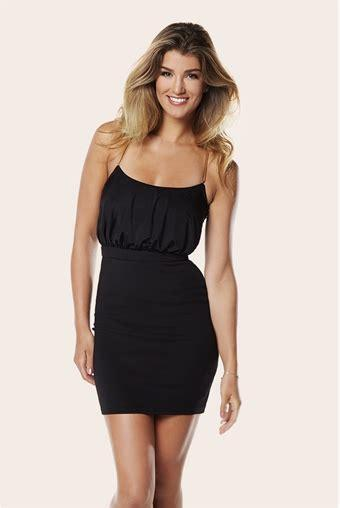dress: (92, 165, 218, 416)
